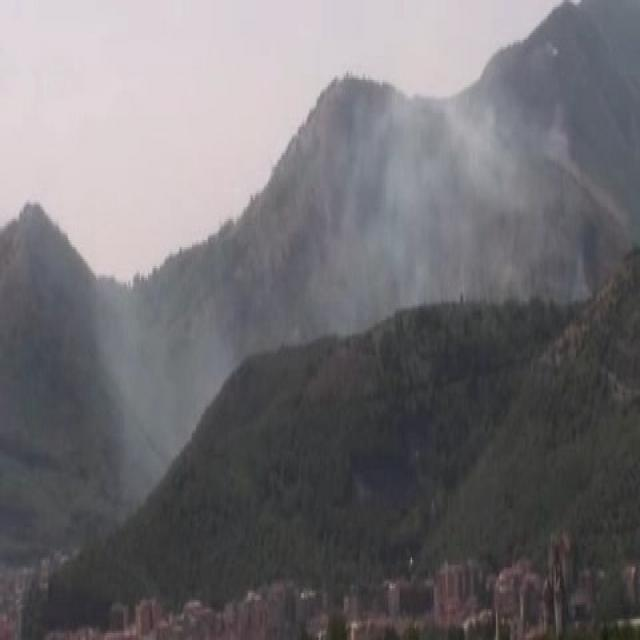smoke: (343, 78, 516, 306)
